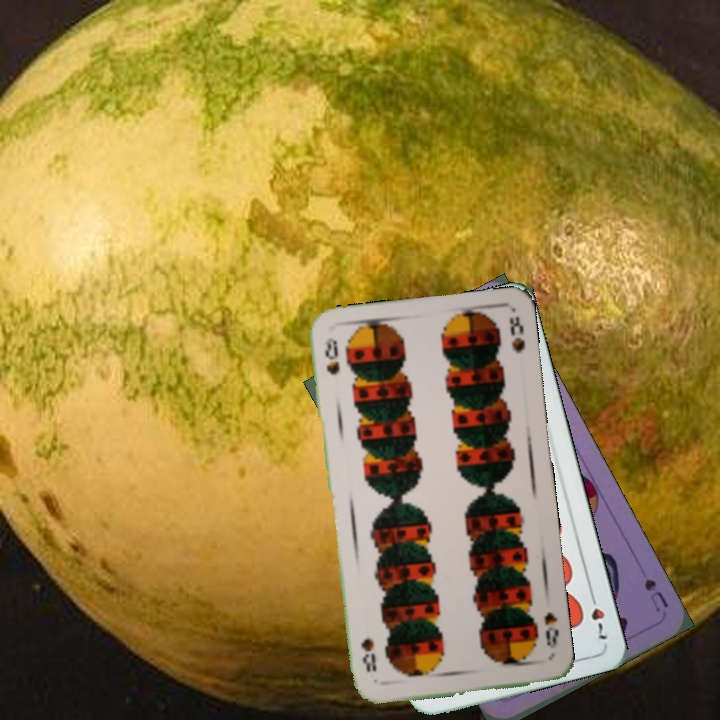H7: (585, 587, 610, 644)
S8: (540, 607, 562, 651), (321, 334, 342, 377)
SU: (640, 574, 671, 615)
